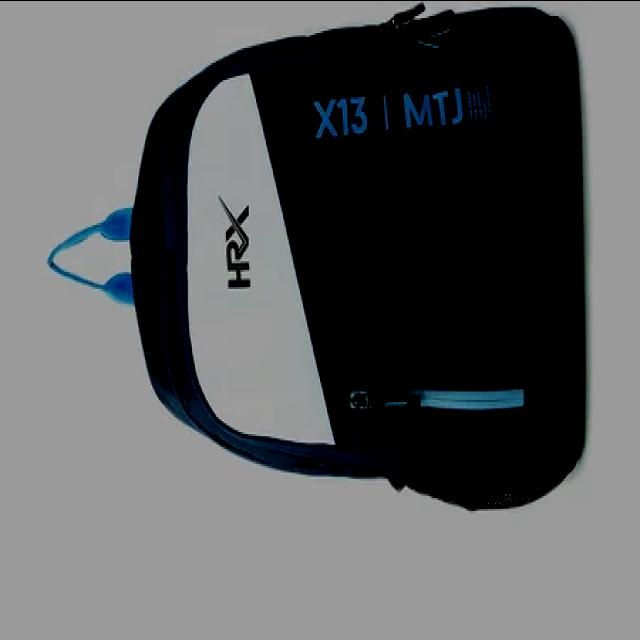backpack: (48, 3, 584, 513)
